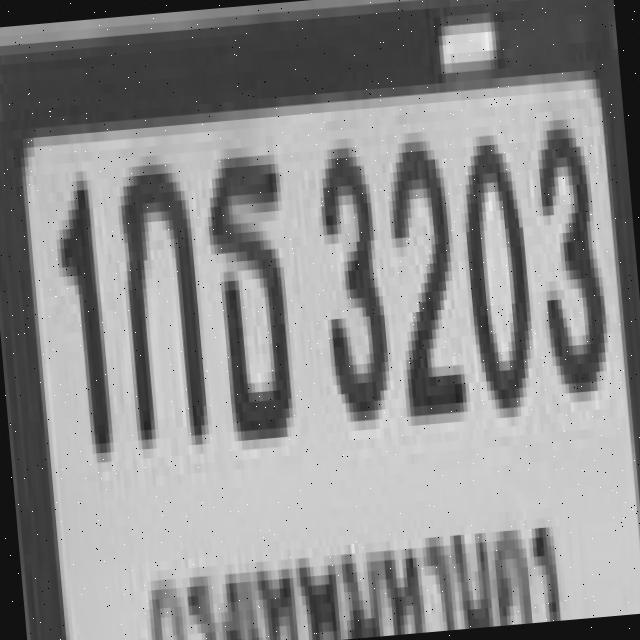0: (454, 124, 534, 410)
1: (51, 170, 110, 456)
10GorGai: (110, 152, 205, 440)
2: (381, 130, 462, 417)
3: (526, 108, 608, 384), (307, 136, 388, 414)
33ThorThong: (198, 144, 297, 432)
